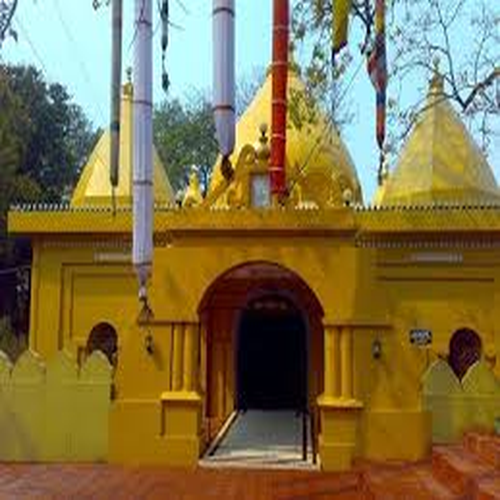Temple: (26, 33, 492, 457)
